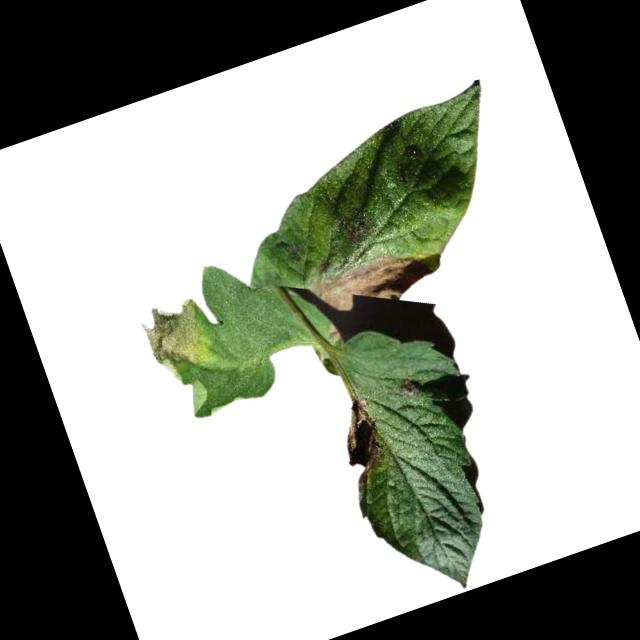Late_blight: (307, 241, 440, 326), (328, 392, 399, 495), (136, 292, 217, 380), (396, 372, 424, 400), (326, 323, 341, 341)
